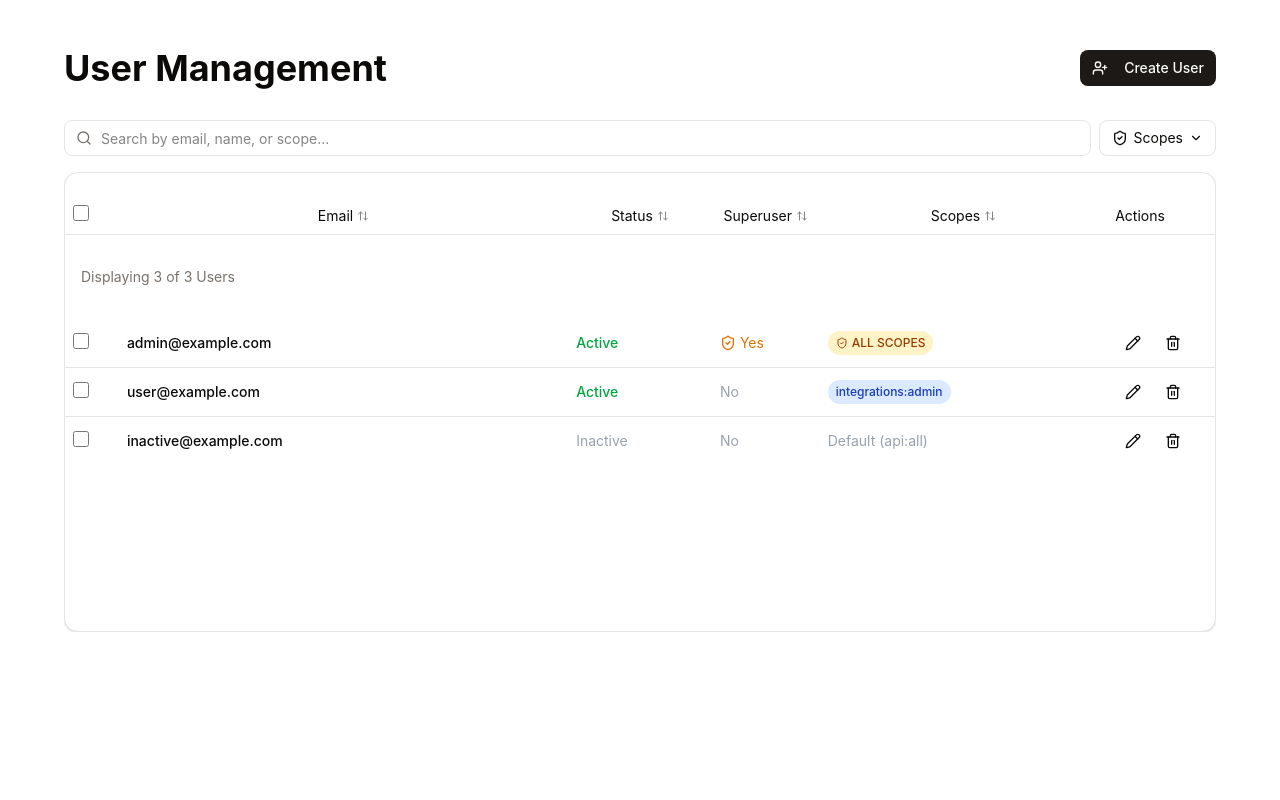
Test: UsersAdminPage › shows bulk delete button when users are selected
The width and height of the screenshot is (1280, 800).
What coordinates should you click on to do the following:
click the checkbox in the row of "Email"
I would click on:
 (81, 213)
Its box is [73,205,89,221].
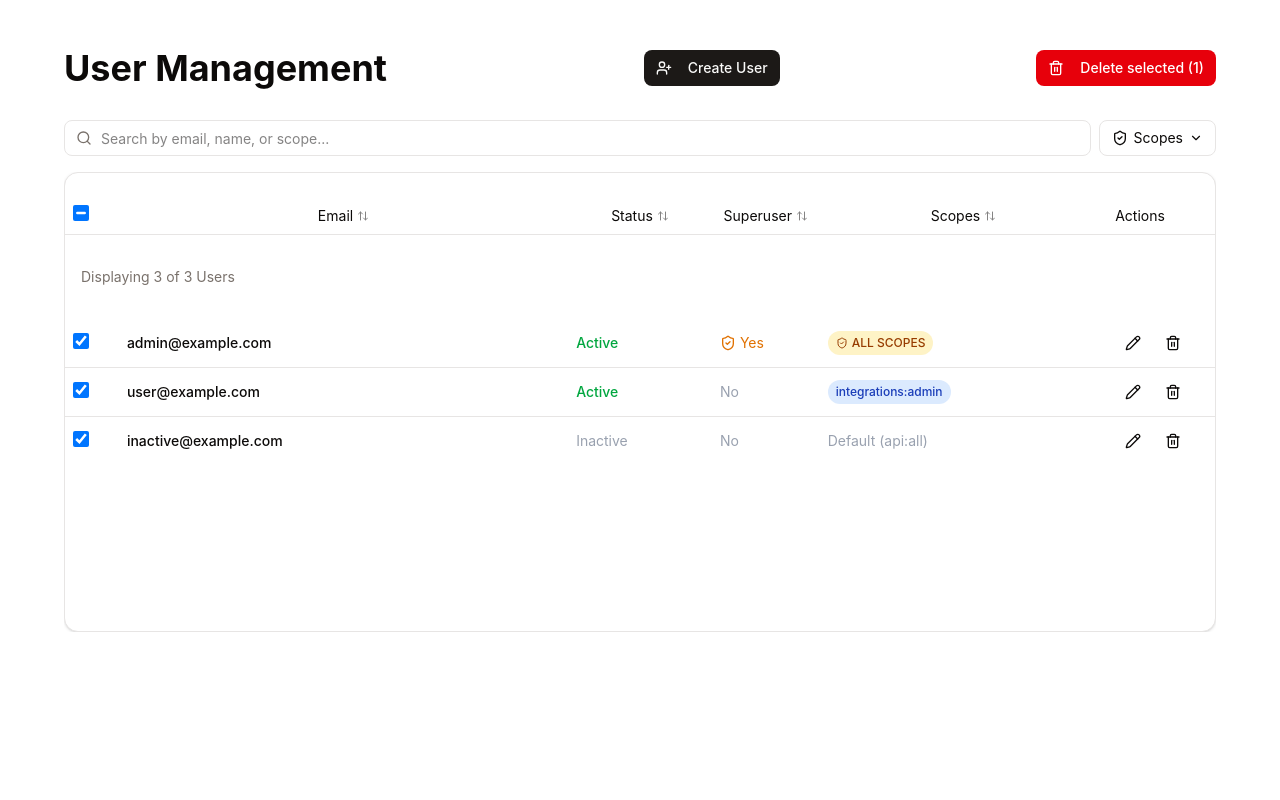
Expected: the button "Delete selected (1)" is shown, [1036,50,1216,86]
